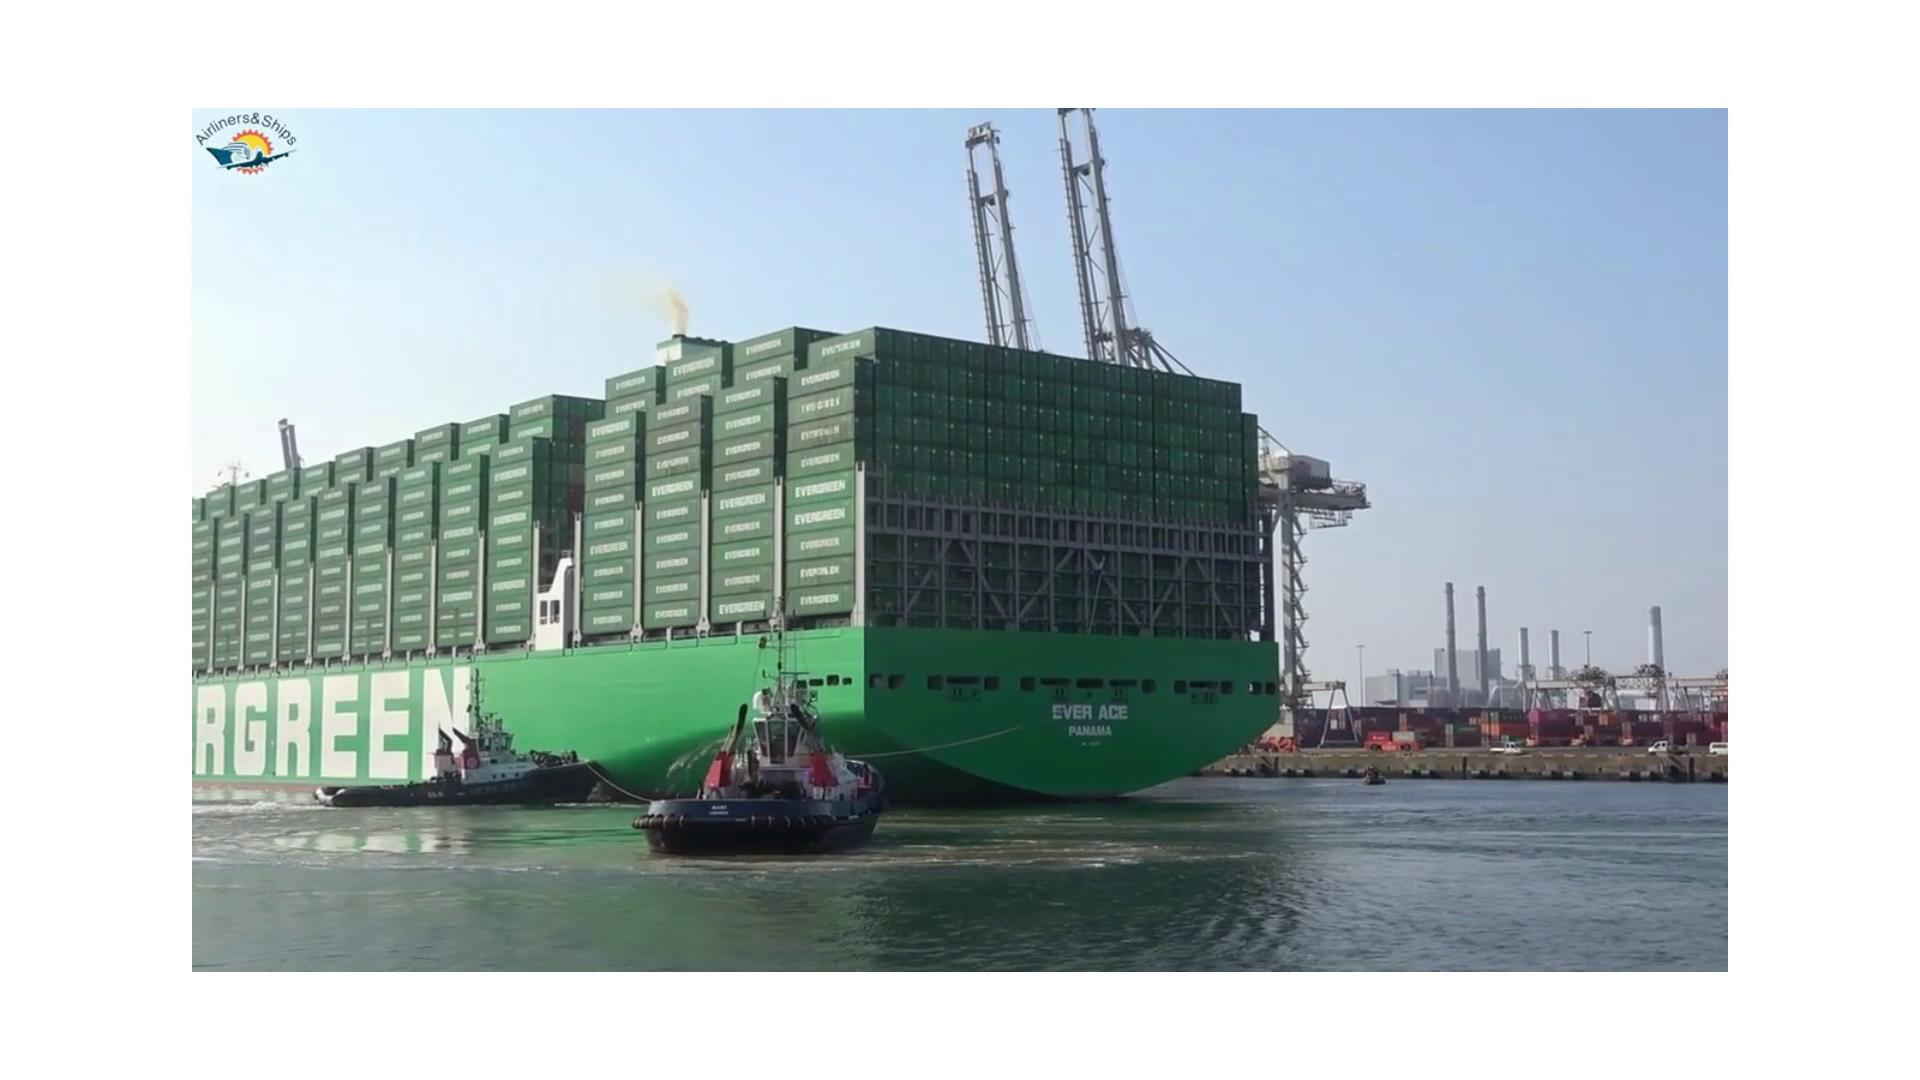OCR: (203, 646, 481, 790), (1046, 683, 1138, 753)
